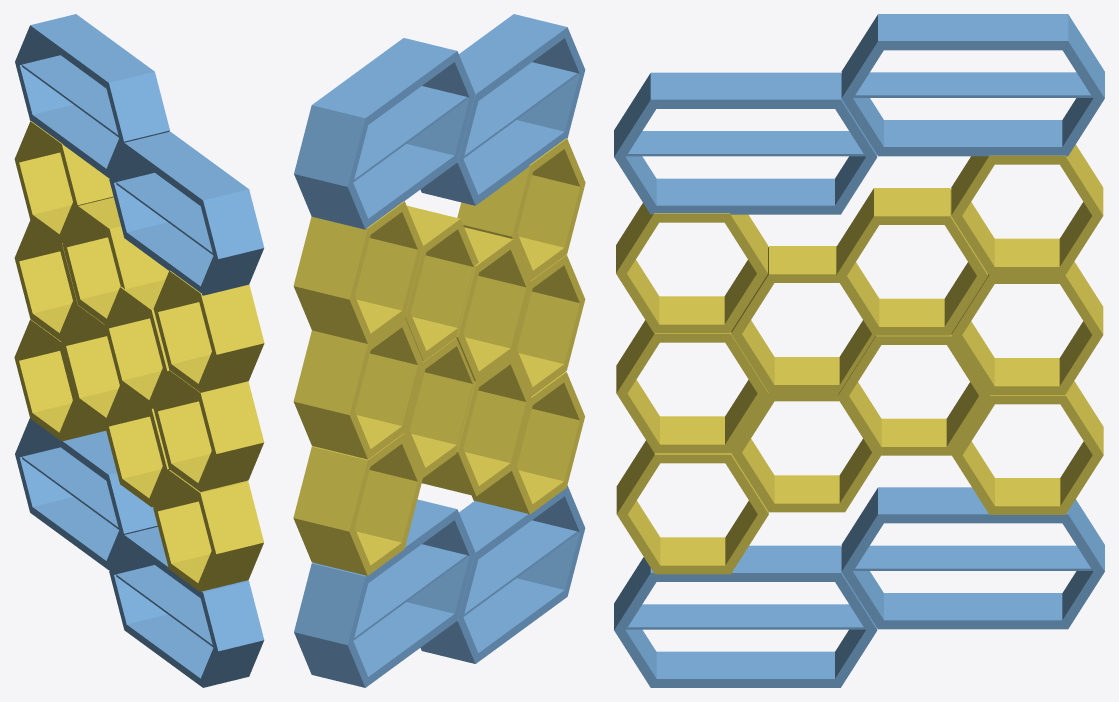
File: HiveShelves.fbx
3 views of the same model, side by side, from view 1: azimuth 30°, elevation 25°; view 2: azimuth 150°, elevation 25°; view 3: azimuth 270°, elevation 25° (orthographic). The views are drawn at different scales.
Parts seen in each view (by area): view 1: Cylinder.002, Cylinder.008, Cylinder.015, Cylinder, Cylinder.007; view 2: Cylinder.002, Cylinder.015, Cylinder.007, Cylinder.008, Cylinder; view 3: Cylinder.002, Cylinder.015, Cylinder.008, Cylinder.007, Cylinder.
Part boxes in pixels (bbox=[...]): Cylinder.002: bbox=[14, 121, 264, 591]; Cylinder.008: bbox=[109, 131, 264, 295]; Cylinder.015: bbox=[15, 14, 169, 177]; Cylinder: bbox=[109, 527, 264, 687]; Cylinder.007: bbox=[15, 418, 157, 570]; Cylinder.002: bbox=[293, 138, 585, 575]; Cylinder.015: bbox=[294, 38, 475, 229]; Cylinder.007: bbox=[294, 499, 474, 687]; Cylinder.008: bbox=[420, 14, 585, 205]; Cylinder: bbox=[420, 485, 585, 663]; Cylinder.002: bbox=[616, 144, 1103, 574]; Cylinder.015: bbox=[841, 14, 1104, 156]; Cylinder.008: bbox=[614, 72, 877, 214]; Cylinder.007: bbox=[841, 487, 1104, 629]; Cylinder: bbox=[614, 545, 877, 687].
Size of the model in its own units: 11.76 by 122 by 83.66.
